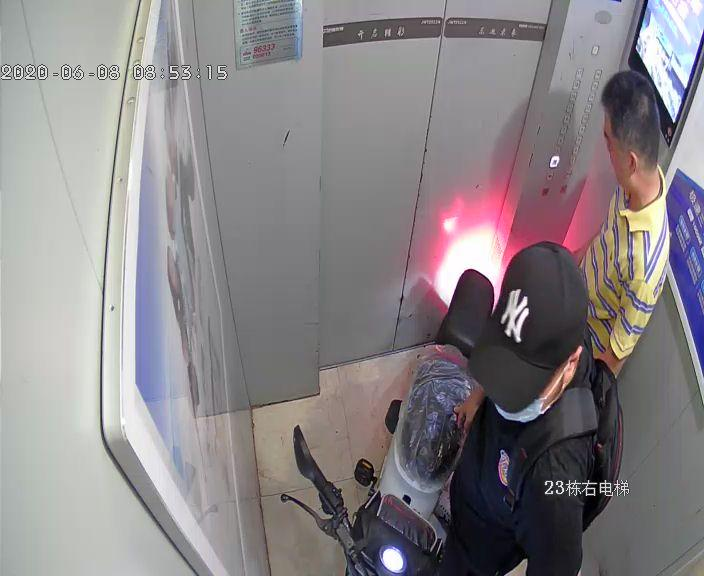Electric-bicycle: (278, 265, 494, 575)
